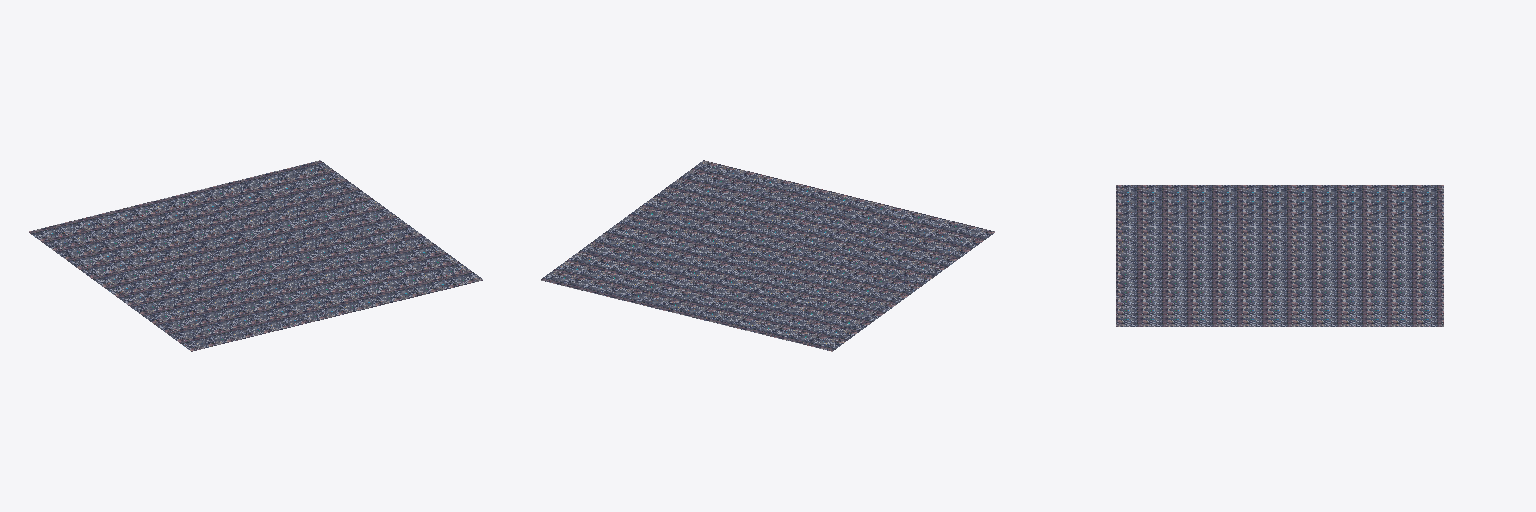
3 renders of one model, left to right at view 1: azimuth 30°, elevation 25°; view 2: azimuth 150°, elevation 25°; view 3: azimuth 270°, elevation 25°, orthographic.
Size of the model in its own units: 3565 by 0 by 3457.
1 materials, 1 textured.